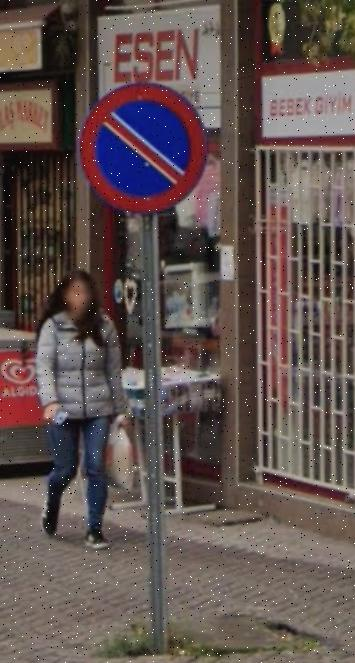nopark: (80, 84, 210, 215)
